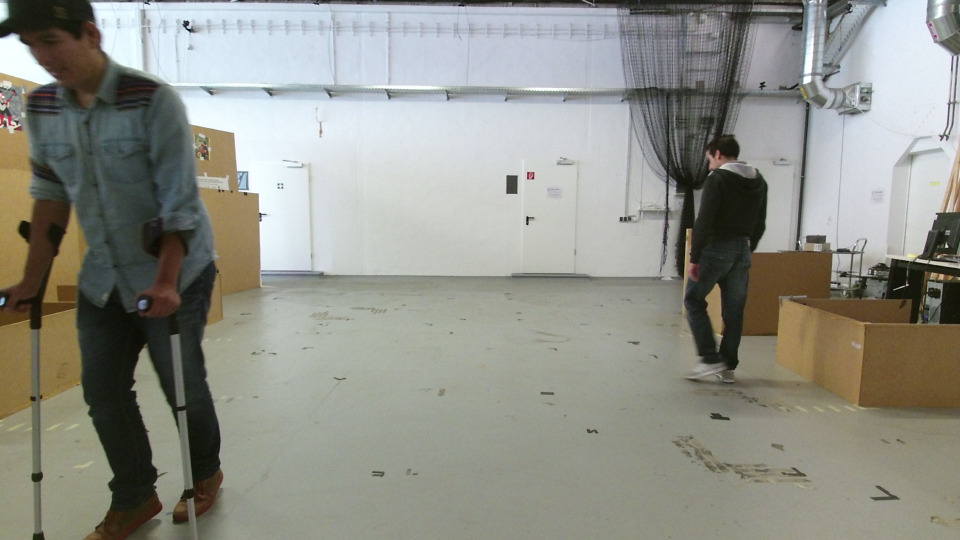crutches: (1, 1, 237, 540)
